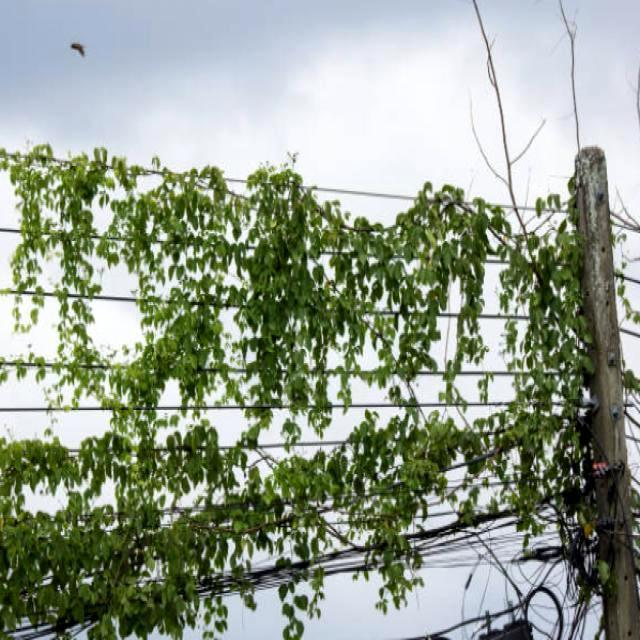critical vegetation: (29, 186, 608, 589), (540, 143, 616, 608)
